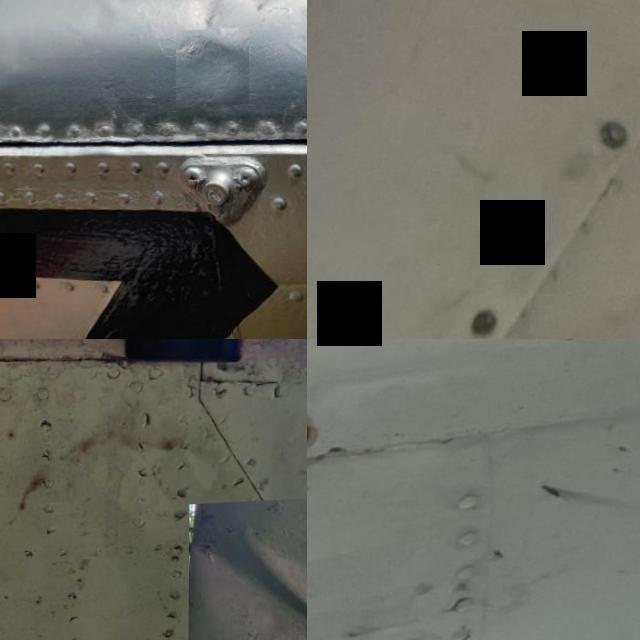Dent: (188, 494, 307, 640), (177, 30, 250, 110), (0, 0, 22, 99)
Missing_Fastener: (594, 121, 634, 160), (462, 310, 510, 339), (307, 408, 327, 461)
